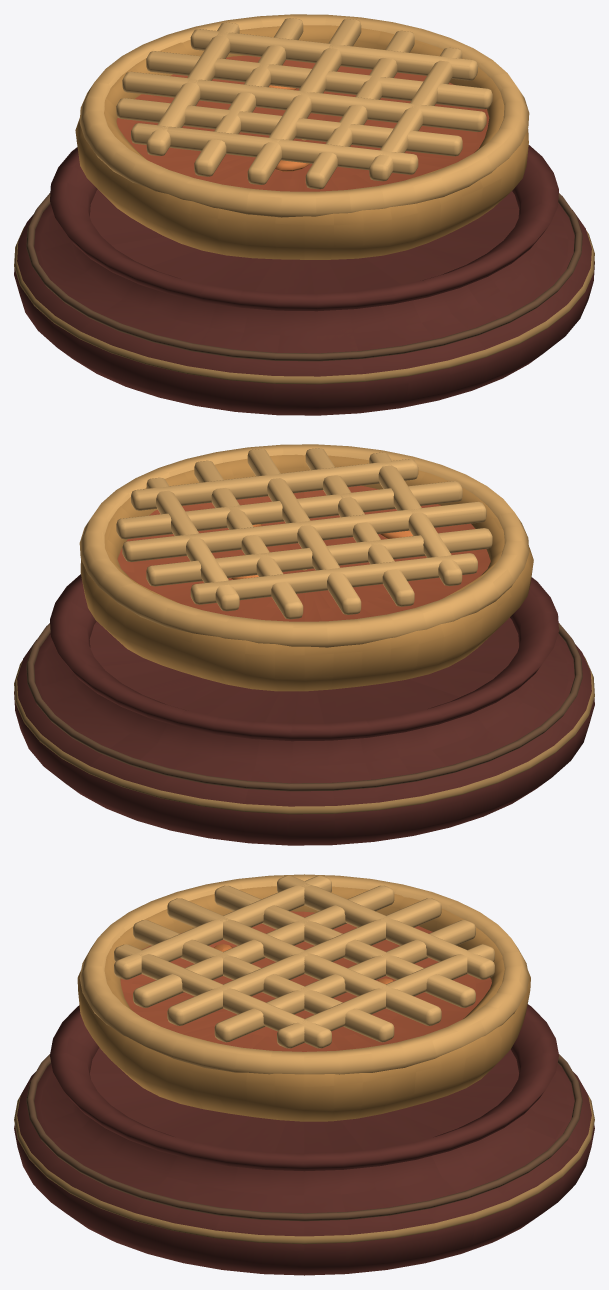
File: apple-pie.glb
The picture shows the model from 3 angles, top to bottom: view 1: azimuth 30°, elevation 25°; view 2: azimuth 150°, elevation 25°; view 3: azimuth 270°, elevation 25°; orthographic projection.
Visible parts, largest first — view 1: Shared_burgundy_dessert_plate, Apple_pie_butter_crust_shell, Apple_pie_hand_crimped_golden_rim, Apple_pie_cinnamon_apple_filling, Apple_pie_lattice_-1_2, Shared_deep_recessed_band, Apple_pie_lattice_-1_3, Apple_pie_lattice_-1_1, Shared_antique_brass_outer_rim, Apple_pie_lattice_-1_0, Apple_pie_lattice_-1_4, Apple_pie_lattice_1_2 (+4 smaller); view 2: Shared_burgundy_dessert_plate, Apple_pie_butter_crust_shell, Apple_pie_hand_crimped_golden_rim, Apple_pie_cinnamon_apple_filling, Apple_pie_lattice_1_2, Shared_deep_recessed_band, Apple_pie_lattice_1_3, Apple_pie_lattice_1_1, Shared_antique_brass_outer_rim, Apple_pie_lattice_1_4, Apple_pie_lattice_1_0, Apple_pie_lattice_-1_2 (+4 smaller); view 3: Shared_burgundy_dessert_plate, Apple_pie_butter_crust_shell, Apple_pie_hand_crimped_golden_rim, Apple_pie_cinnamon_apple_filling, Shared_deep_recessed_band, Shared_antique_brass_outer_rim, Apple_pie_lattice_1_2, Apple_pie_lattice_-1_2, Apple_pie_lattice_1_1, Apple_pie_lattice_1_3, Apple_pie_lattice_-1_1, Apple_pie_lattice_-1_3 (+4 smaller).
Part boxes in pixels (x1=…): Shared_burgundy_dessert_plate: x1=14, y1=145, x2=594, y2=415; Apple_pie_butter_crust_shell: x1=75, y1=25, x2=528, y2=259; Apple_pie_hand_crimped_golden_rim: x1=79, y1=14, x2=529, y2=217; Apple_pie_cinnamon_apple_filling: x1=116, y1=55, x2=489, y2=191; Apple_pie_lattice_-1_2: x1=122, y1=71, x2=486, y2=131; Shared_deep_recessed_band: x1=26, y1=193, x2=582, y2=361; Apple_pie_lattice_-1_3: x1=146, y1=51, x2=492, y2=109; Apple_pie_lattice_-1_1: x1=116, y1=98, x2=462, y2=156; Shared_antique_brass_outer_rim: x1=14, y1=225, x2=594, y2=384; Apple_pie_lattice_-1_0: x1=131, y1=123, x2=418, y2=174; Apple_pie_lattice_-1_4: x1=190, y1=29, x2=477, y2=80; Apple_pie_lattice_1_2: x1=247, y1=19, x2=361, y2=184; Shared_burgundy_dessert_plate: x1=14, y1=574, x2=594, y2=845; Apple_pie_butter_crust_shell: x1=80, y1=454, x2=533, y2=691; Apple_pie_hand_crimped_golden_rim: x1=79, y1=444, x2=529, y2=647; Apple_pie_cinnamon_apple_filling: x1=117, y1=485, x2=490, y2=621; Apple_pie_lattice_1_2: x1=122, y1=501, x2=486, y2=561; Shared_deep_recessed_band: x1=26, y1=623, x2=582, y2=791; Apple_pie_lattice_1_3: x1=146, y1=528, x2=492, y2=586; Apple_pie_lattice_1_1: x1=116, y1=481, x2=462, y2=539; Shared_antique_brass_outer_rim: x1=14, y1=655, x2=594, y2=814; Apple_pie_lattice_1_4: x1=190, y1=553, x2=477, y2=604; Apple_pie_lattice_1_0: x1=131, y1=459, x2=418, y2=510; Apple_pie_lattice_-1_2: x1=247, y1=449, x2=361, y2=614; Shared_burgundy_dessert_plate: x1=14, y1=1004, x2=594, y2=1275; Apple_pie_butter_crust_shell: x1=77, y1=886, x2=530, y2=1121; Apple_pie_hand_crimped_golden_rim: x1=79, y1=874, x2=529, y2=1074; Apple_pie_cinnamon_apple_filling: x1=120, y1=911, x2=491, y2=1051; Shared_deep_recessed_band: x1=26, y1=1054, x2=582, y2=1221; Shared_antique_brass_outer_rim: x1=14, y1=1095, x2=594, y2=1244; Apple_pie_lattice_1_2: x1=167, y1=898, x2=441, y2=1025; Apple_pie_lattice_-1_2: x1=167, y1=898, x2=441, y2=1025; Apple_pie_lattice_1_1: x1=133, y1=920, x2=394, y2=1042; Apple_pie_lattice_1_3: x1=214, y1=885, x2=475, y2=1007; Apple_pie_lattice_-1_1: x1=133, y1=885, x2=394, y2=1007; Apple_pie_lattice_-1_3: x1=214, y1=920, x2=475, y2=1042.
Bounding box in the file's own units: 0.858 × 0.3405 × 0.858.
